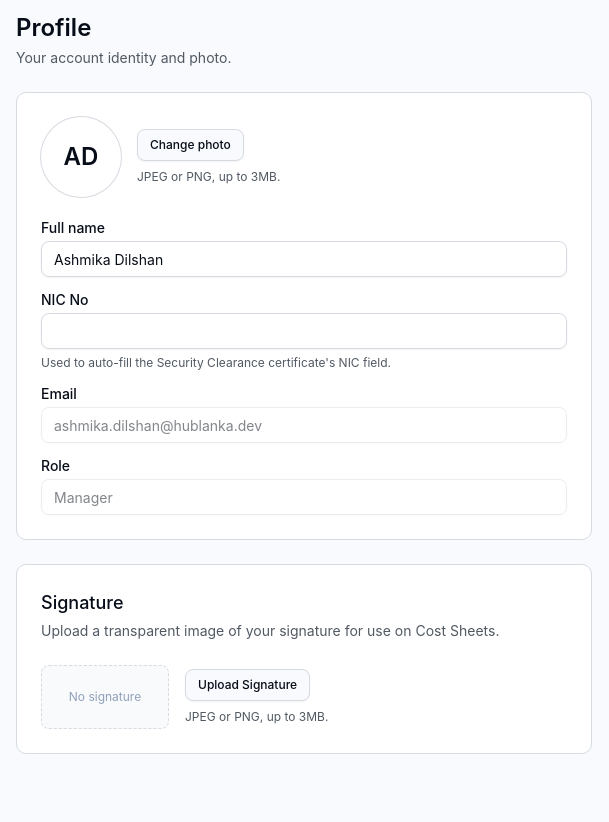
ProfilePage › saves the new full name via PATCH /me and updates the session
This screenshot has width=609, height=822.
Replace the text in the field labelled "Full name" with "Ashmika D. Silva" at (304,259), box left=41, top=241, right=567, bottom=277
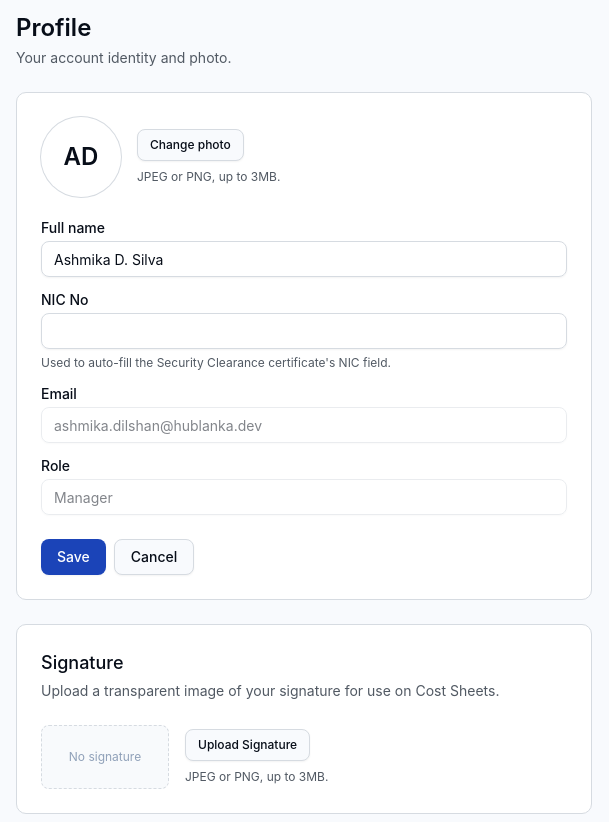
Click the button "Save" at (73,557), box left=41, top=539, right=106, bottom=575
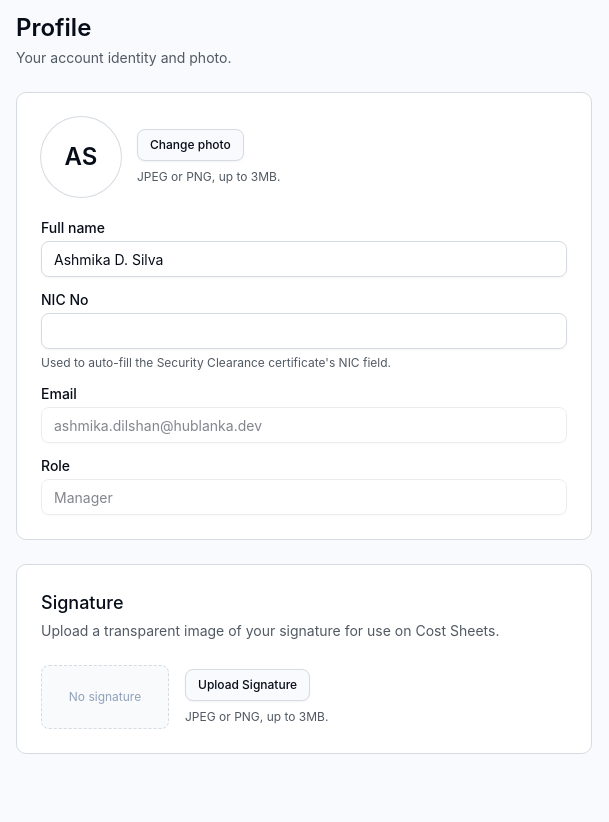
Expected: the button "Save" is gone
